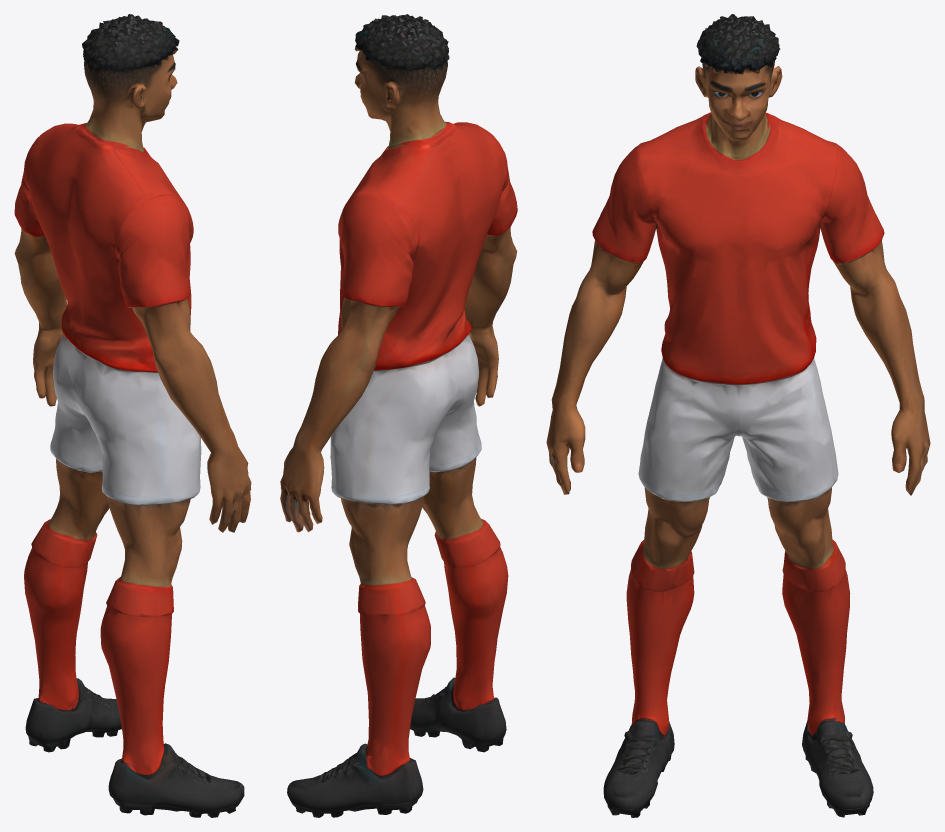
File: gen.glb
The picture shows the model from 3 angles, left to right: view 1: azimuth 30°, elevation 25°; view 2: azimuth 150°, elevation 25°; view 3: azimuth 270°, elevation 25°; orthographic projection. The views are drawn at different scales.
Visible parts, largest first — view 1: tripo_node_c5374739-3f4e-48ae-9b93-5122653580ad; view 2: tripo_node_c5374739-3f4e-48ae-9b93-5122653580ad; view 3: tripo_node_c5374739-3f4e-48ae-9b93-5122653580ad.
Part boxes in pixels (left/top/right/bottom): tripo_node_c5374739-3f4e-48ae-9b93-5122653580ad: left=14, top=14, right=251, bottom=817; tripo_node_c5374739-3f4e-48ae-9b93-5122653580ad: left=280, top=14, right=517, bottom=817; tripo_node_c5374739-3f4e-48ae-9b93-5122653580ad: left=546, top=14, right=930, bottom=817.
Bounding box in the file's own units: 0.1724 × 1 × 0.4498.
Materials: 1 (1 with a texture image).
